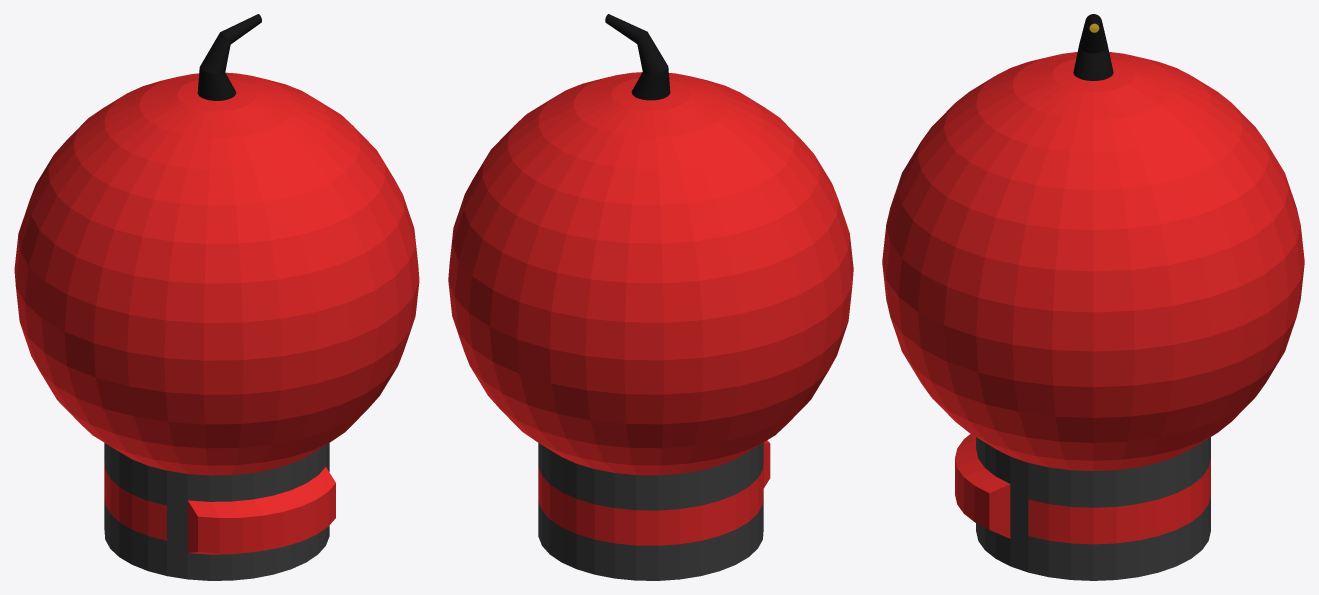
The model's file is bomba.fbx.
3 renders of one model, left to right at view 1: azimuth 30°, elevation 25°; view 2: azimuth 150°, elevation 25°; view 3: azimuth 270°, elevation 25°, orthographic. The views are drawn at different scales.
Visible parts, largest first — view 1: Guante.001; view 2: Guante.001; view 3: Guante.001.
Boxes of the visible parts, left/top/right/bottom form: Guante.001: left=14, top=14, right=419, bottom=580; Guante.001: left=448, top=14, right=853, bottom=580; Guante.001: left=882, top=14, right=1304, bottom=580.
Size of the model in its own units: 200 by 278 by 200.
